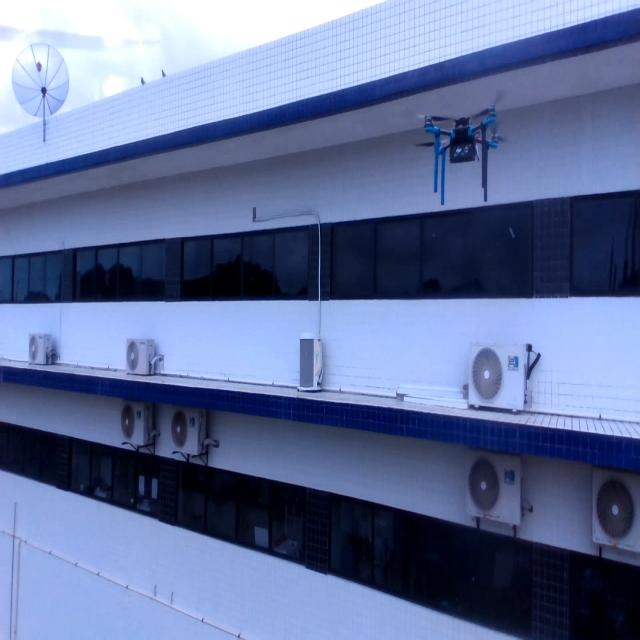-uav-: (409, 84, 512, 221)
